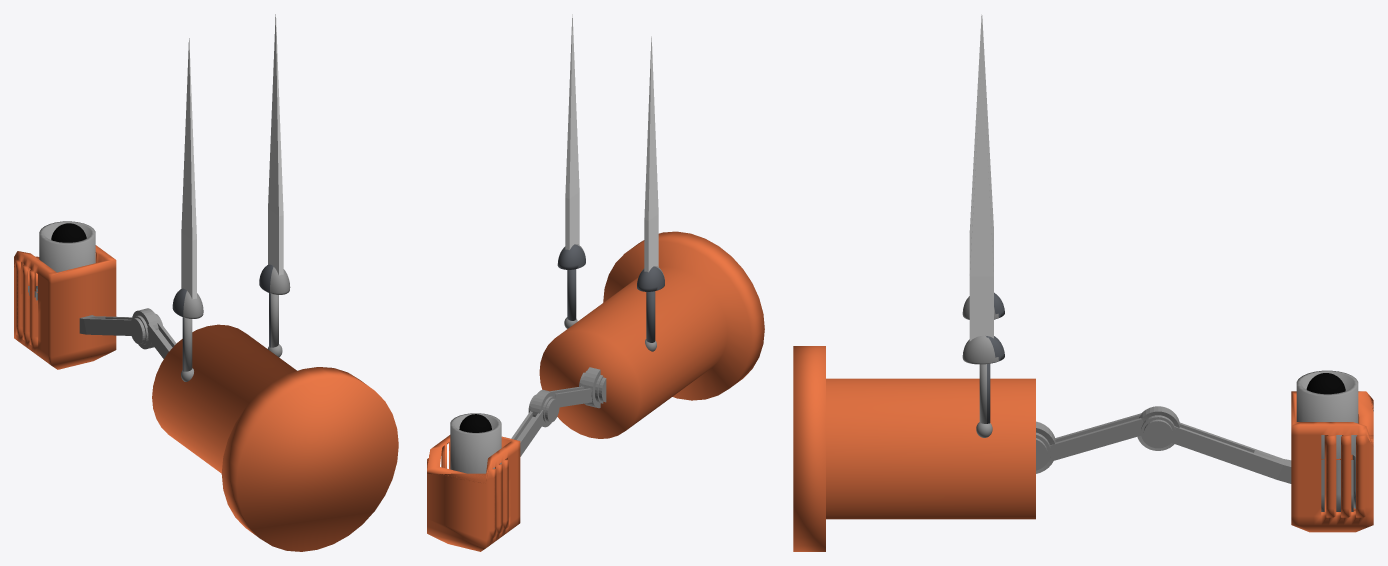
The model's file is creep_missing_limbs.fbx.
The picture shows the model from 3 angles, left to right: view 1: azimuth 30°, elevation 25°; view 2: azimuth 150°, elevation 25°; view 3: azimuth 270°, elevation 25°; orthographic projection. The views are drawn at different scales.
Visible parts, largest first — view 1: swordarm.007; view 2: swordarm.007; view 3: swordarm.007.
Part boxes in pixels (x1,y1,x2,y2): swordarm.007: (14,14,398,551); swordarm.007: (427,14,764,551); swordarm.007: (793,14,1373,551).
Size of the model in its own units: 377 by 1028 by 1063.
